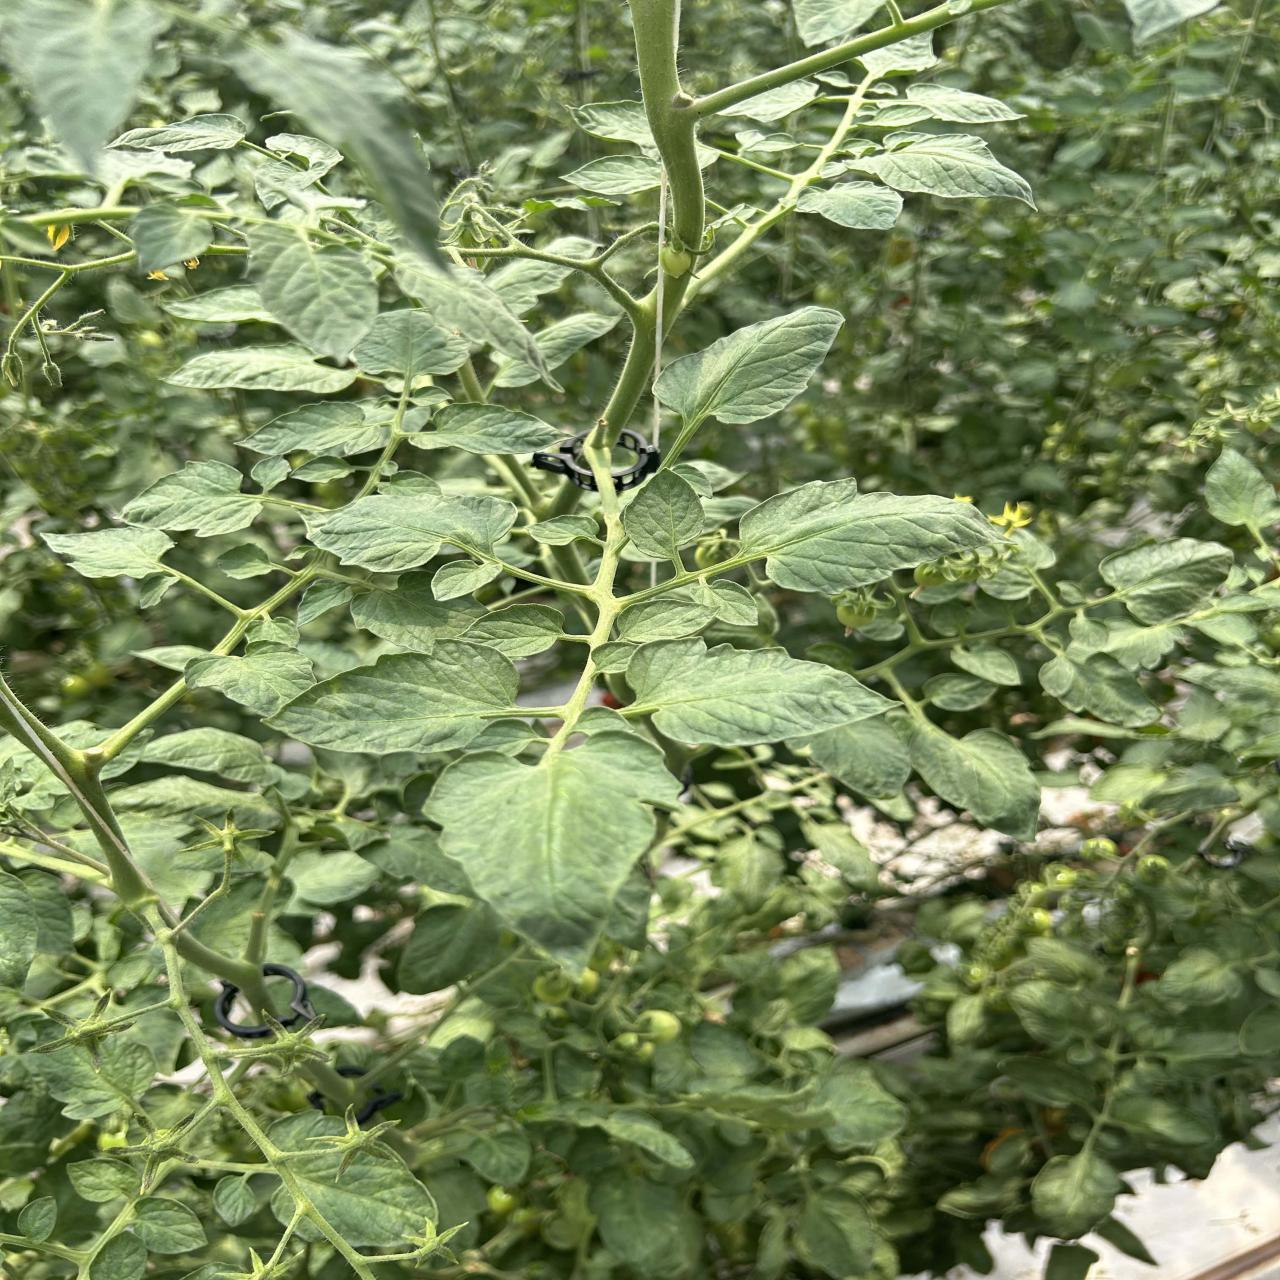Hoja: (423, 733, 681, 965), (740, 478, 1000, 595), (625, 639, 891, 747), (270, 641, 519, 754), (654, 307, 843, 424), (885, 707, 1040, 838), (245, 220, 379, 363), (307, 492, 517, 572), (844, 131, 1034, 209), (1099, 538, 1233, 625), (118, 461, 263, 537), (168, 343, 360, 394), (615, 580, 757, 642), (808, 715, 911, 799), (240, 402, 393, 457), (139, 727, 279, 785), (411, 402, 565, 455), (352, 309, 469, 377), (622, 470, 706, 564), (1204, 448, 1280, 542), (42, 525, 173, 578), (873, 84, 1022, 128), (459, 605, 564, 659), (797, 182, 903, 230)
Pedunculo: (591, 0, 762, 456), (540, 407, 651, 771), (679, 0, 1002, 118), (697, 340, 753, 418)
